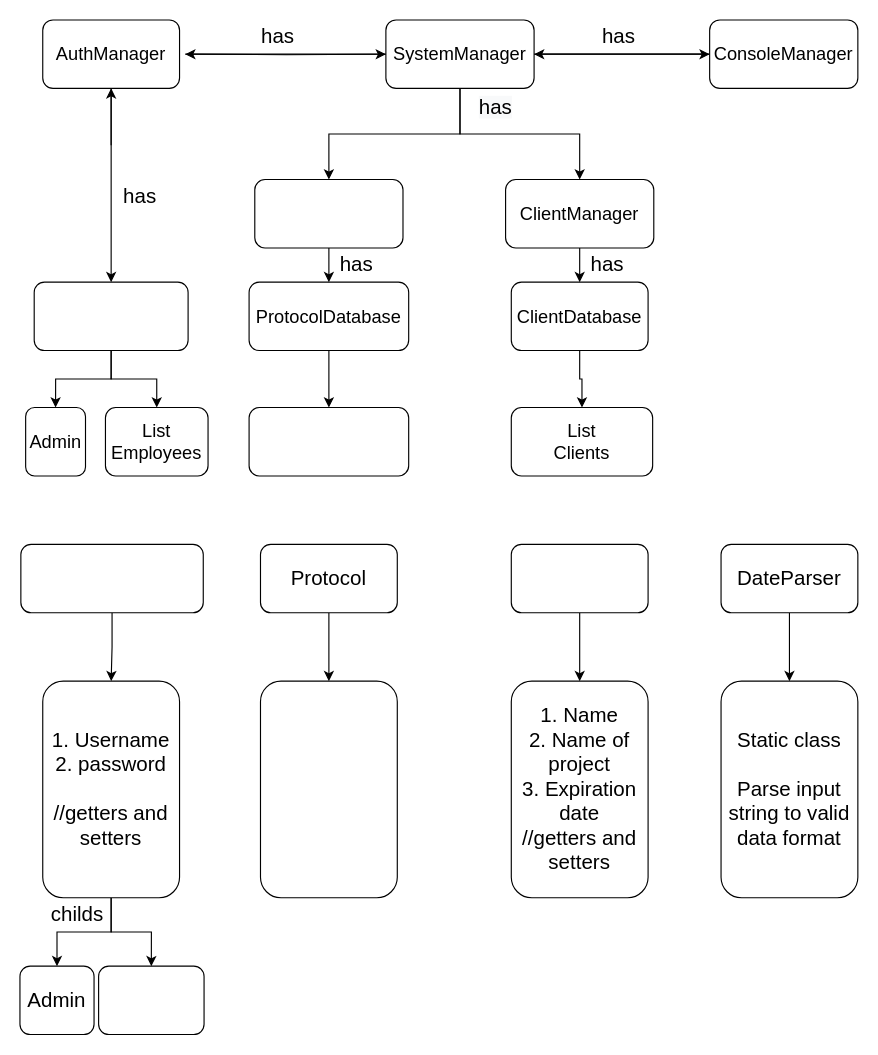
This 878x1055 diagram has some shape labels left out. The centre of each missing label's shape, as x and y in pixels:
1. Name Employee 2. Client/ Project 3. Working time //getters and setters: (328,789)
Account: (111,578)
AccountDatabase: (110,316)
Client: (579,578)
Employee: (150,1000)
List Protocol: (328,441)
ProtocolManager: (328,213)
